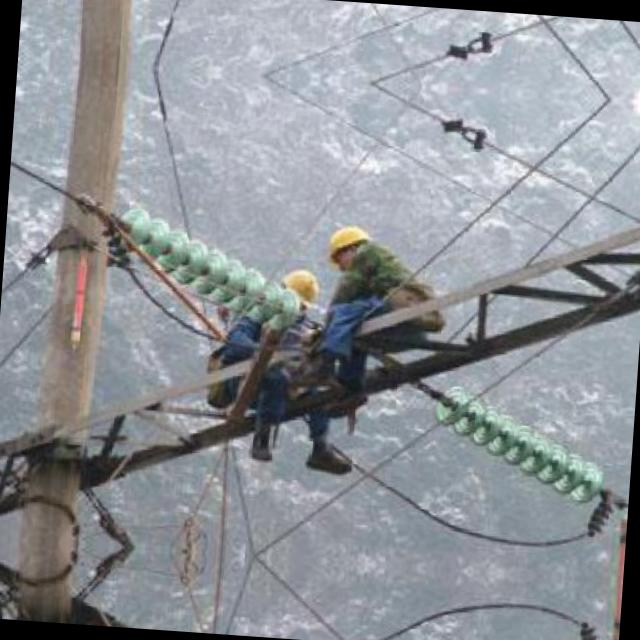helmet: (323, 221, 372, 272), (279, 264, 323, 308)
